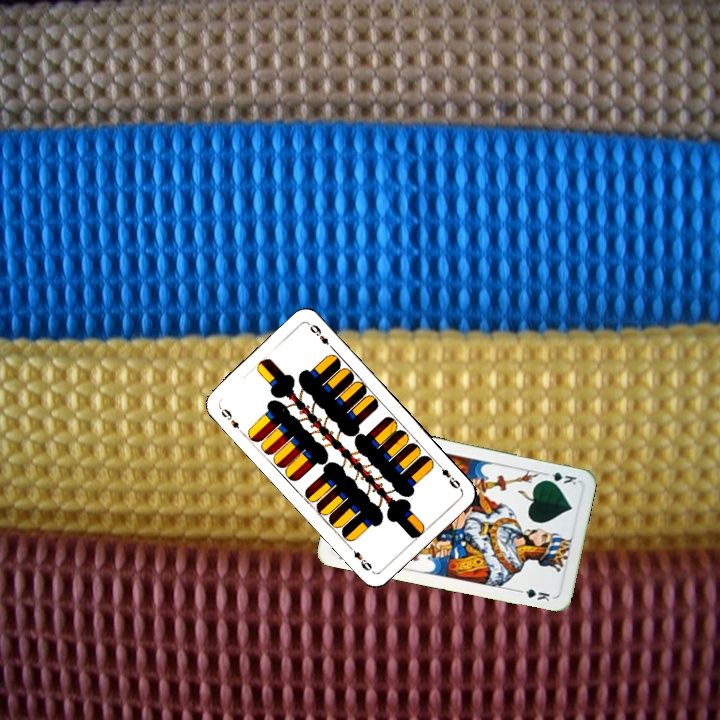E9: (432, 459, 464, 492), (215, 403, 246, 436)
GK: (539, 468, 579, 487)
